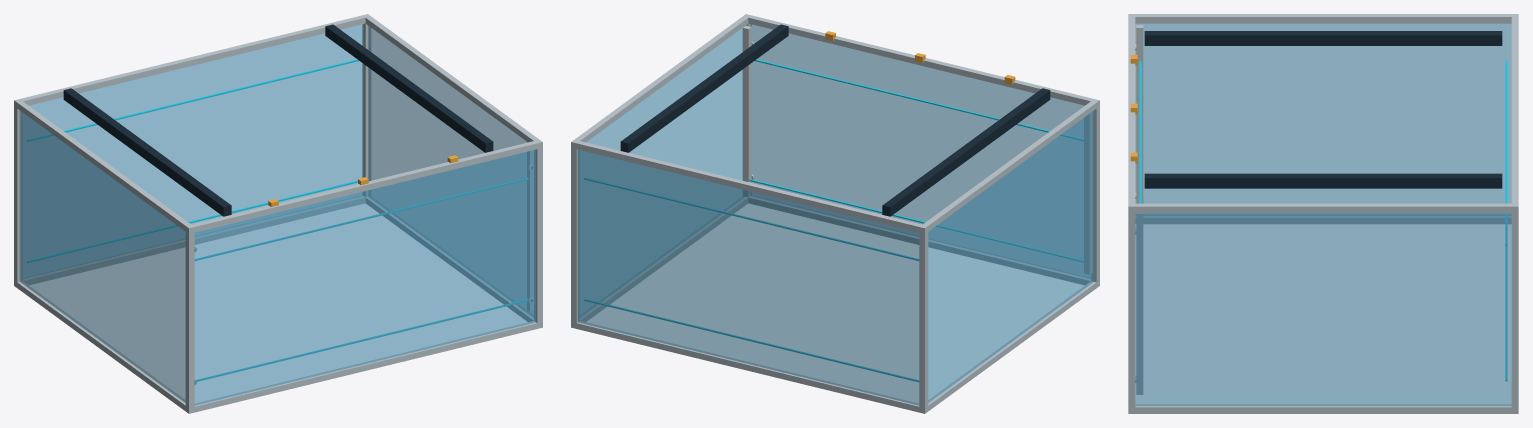
Rendered from 01_L73_TransparentCMPSafetyEnclosure.fbx.
The picture shows the model from 3 angles, left to right: view 1: azimuth 30°, elevation 25°; view 2: azimuth 150°, elevation 25°; view 3: azimuth 270°, elevation 25°; orthographic projection. The views are drawn at different scales.
Visible parts, largest first — view 1: TransparentCMPSafetyEnclosure; view 2: TransparentCMPSafetyEnclosure; view 3: TransparentCMPSafetyEnclosure.
Boxes of the visible parts, x1=… form: TransparentCMPSafetyEnclosure: x1=14, y1=14, x2=542, y2=413; TransparentCMPSafetyEnclosure: x1=571, y1=14, x2=1099, y2=413; TransparentCMPSafetyEnclosure: x1=1128, y1=14, x2=1518, y2=413.
Bounding box in the file's own units: 730 × 376 × 625.
